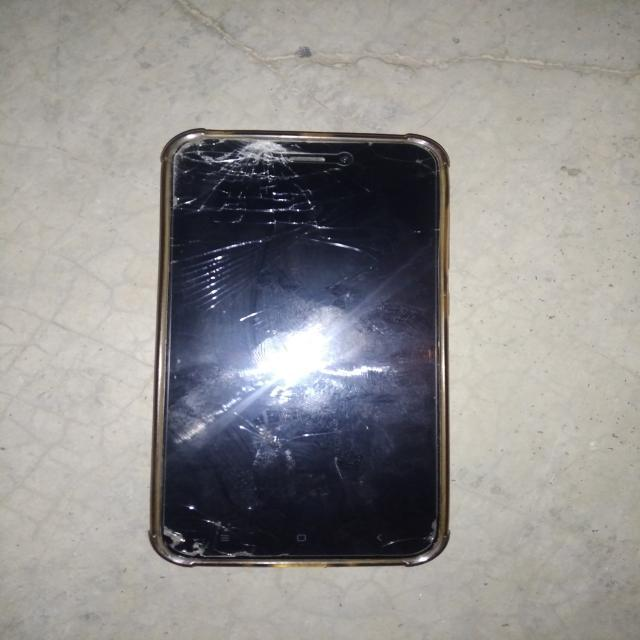screen crack: (170, 113, 369, 329), (134, 500, 231, 578), (407, 500, 467, 565)
